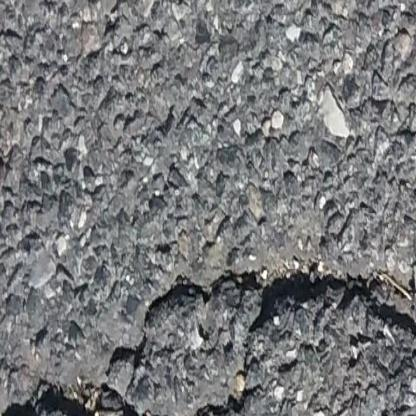Cracks: (0, 264, 416, 416)
